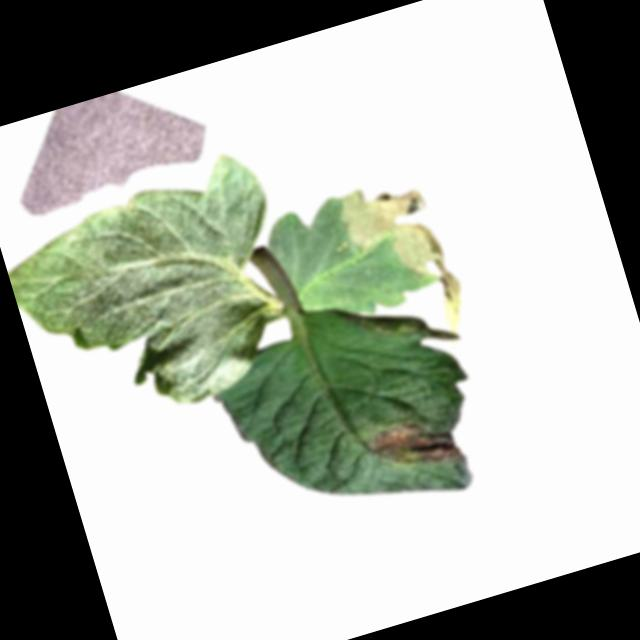Late_blight: (337, 168, 472, 348), (359, 408, 466, 487)
healthy: (1, 145, 314, 444)
